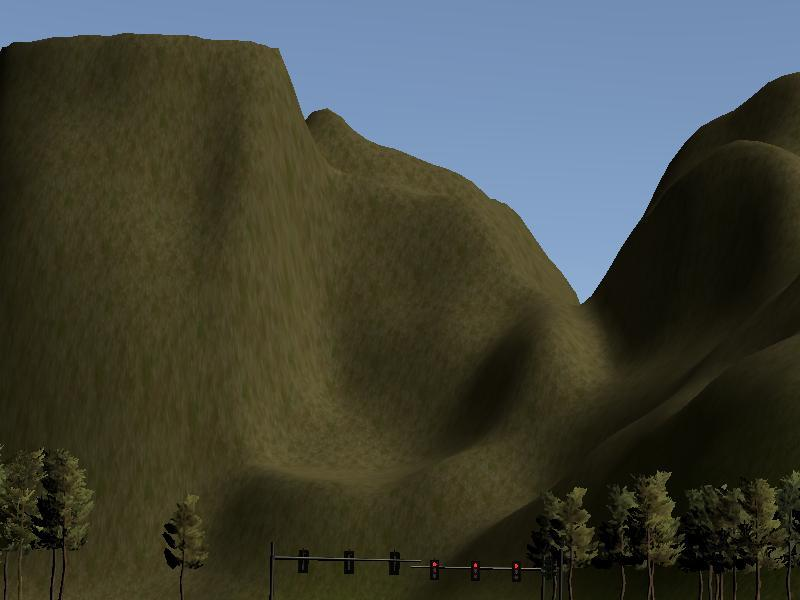Red: (429, 557, 440, 583), (469, 559, 481, 582), (511, 559, 522, 583)
